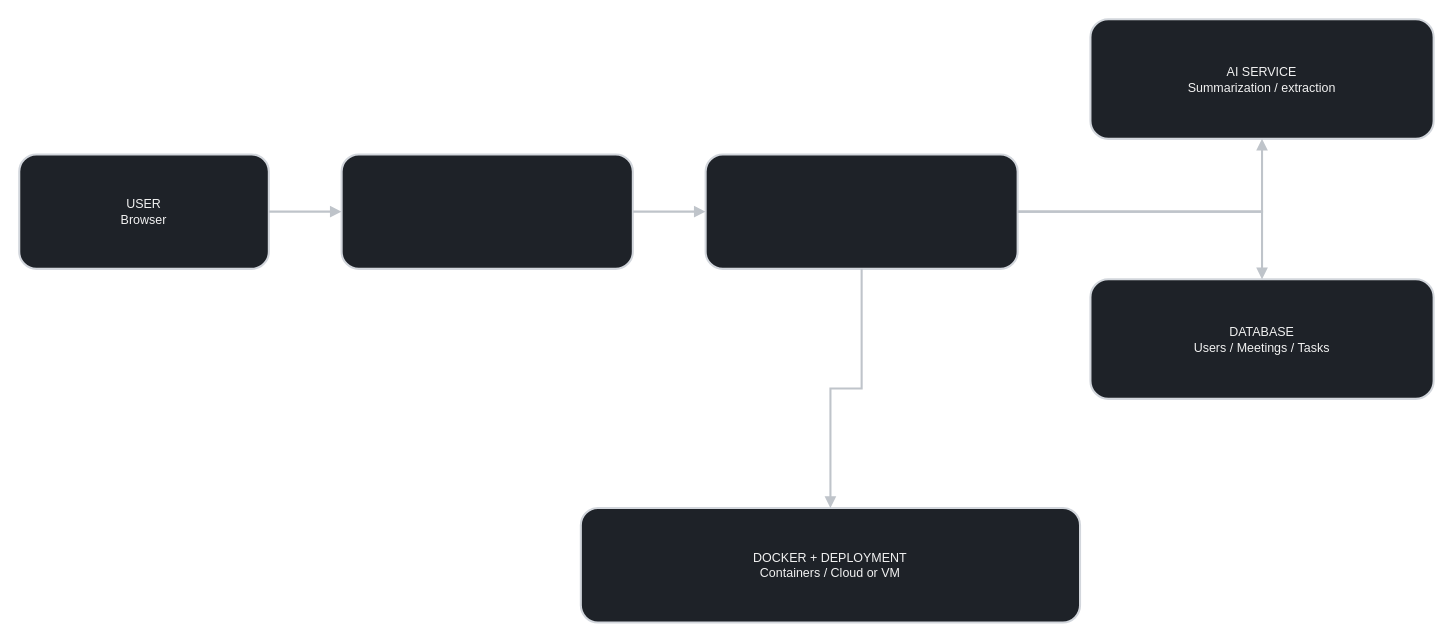
This 1452x641 diagram has some shape labels left out. Each missing label, with the box of its shape:
BACKEND Node.js / Express: (704, 153, 1018, 269)
FRONTEND React / Vite: (340, 153, 633, 269)
